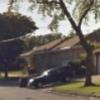cars: (28, 68, 72, 88)
